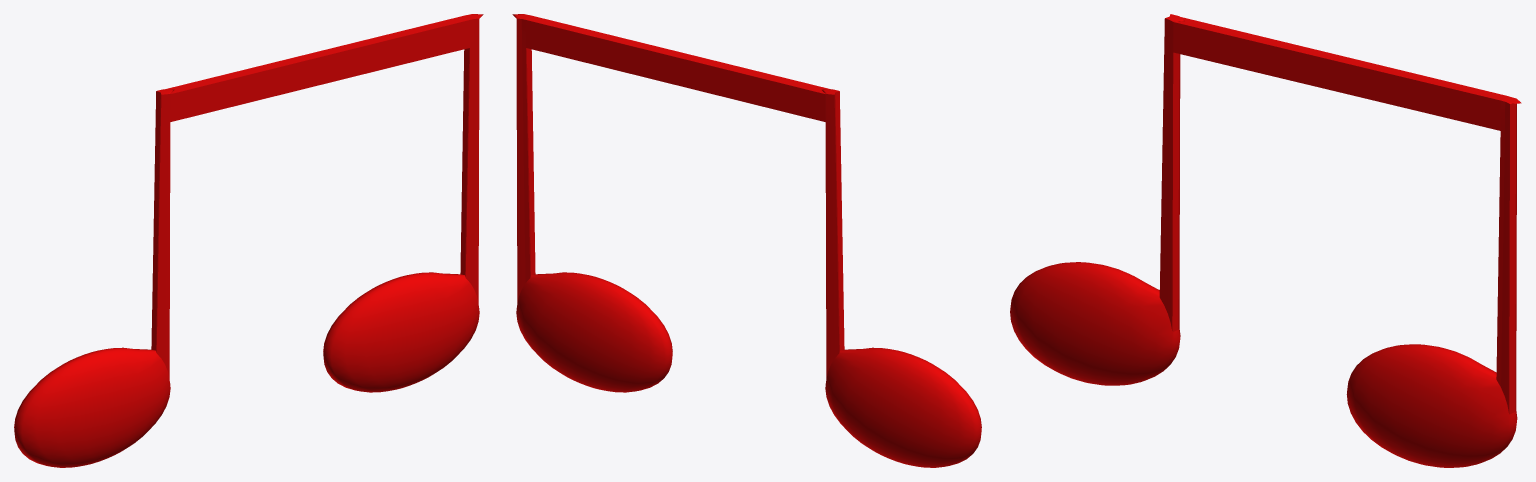
Rendered from Notes.fbx.
3 views of the same model, side by side, from view 1: azimuth 30°, elevation 25°; view 2: azimuth 150°, elevation 25°; view 3: azimuth 330°, elevation 25° (orthographic). The views are drawn at different scales.
Parts seen in each view (by area): view 1: polySurface1; view 2: polySurface1; view 3: polySurface1.
Boxes of the visible parts, x1,y1,x2,y2 form: polySurface1: (14,14,483,467); polySurface1: (512,14,981,467); polySurface1: (1010,14,1521,467).
Bounding box in the file's own units: 5.42 × 3.9 × 0.5317.
